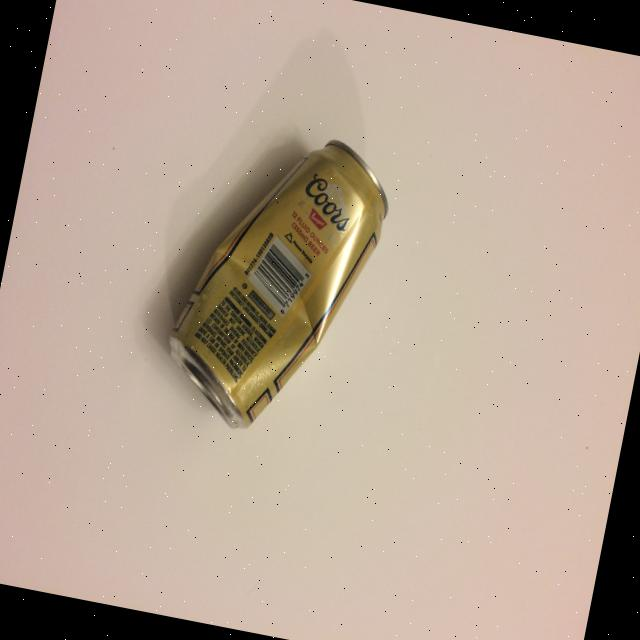metal: (154, 113, 400, 451)
